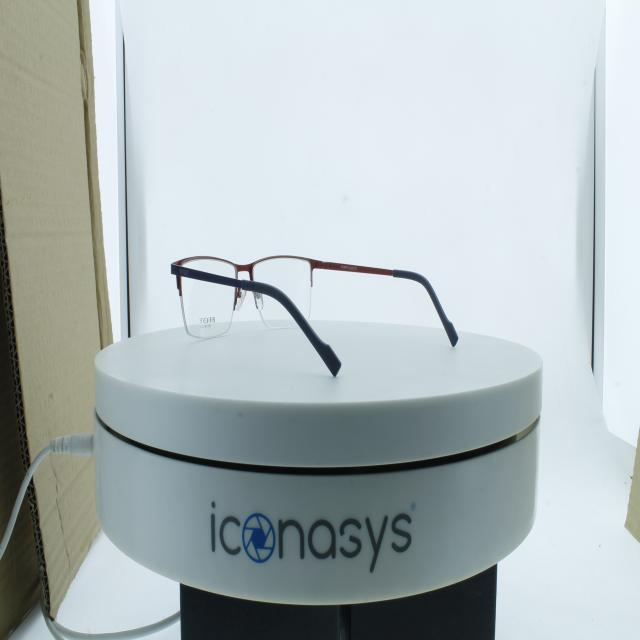Specs: (157, 200, 466, 396)
